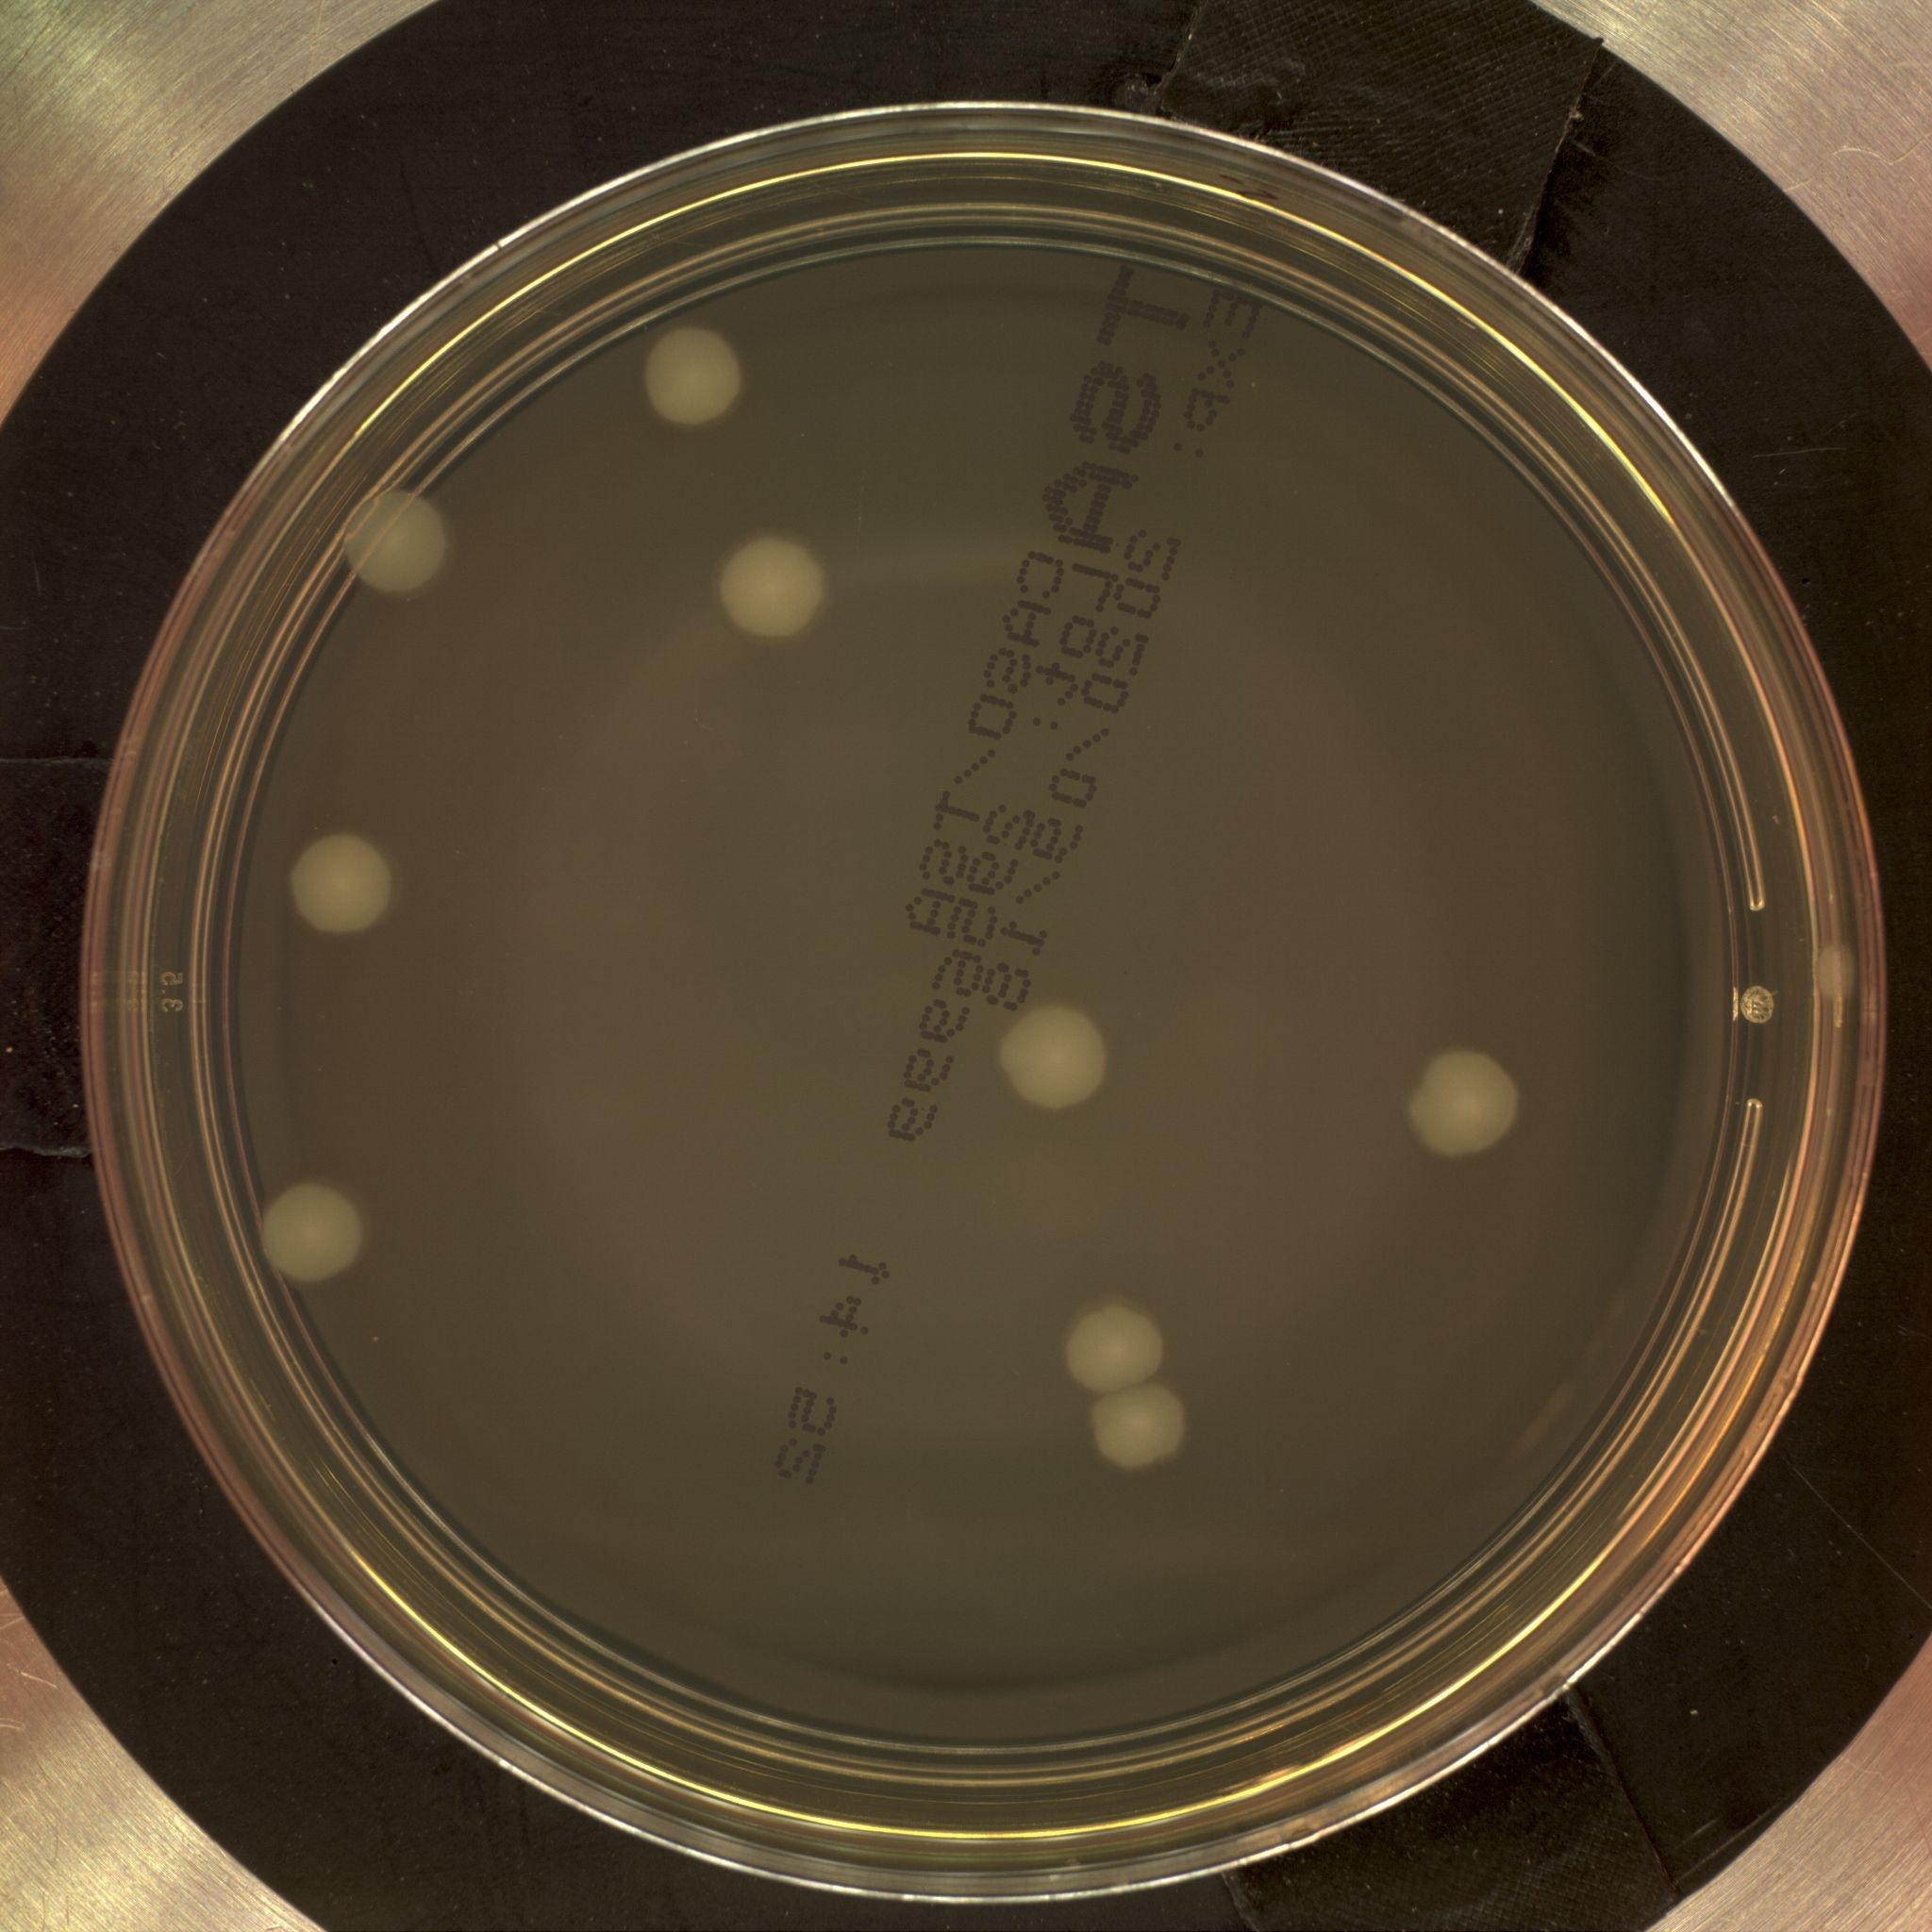e. coli: (317, 490, 478, 603), (1403, 1042, 1529, 1175), (246, 1175, 379, 1297), (704, 510, 828, 632), (637, 317, 743, 444), (288, 835, 403, 943), (1086, 1376, 1208, 1476), (991, 1005, 1095, 1118), (1067, 1292, 1166, 1387)
